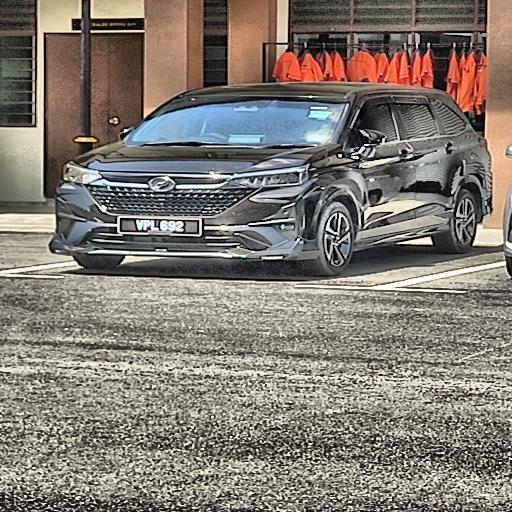license_plate: (116, 214, 205, 238)
